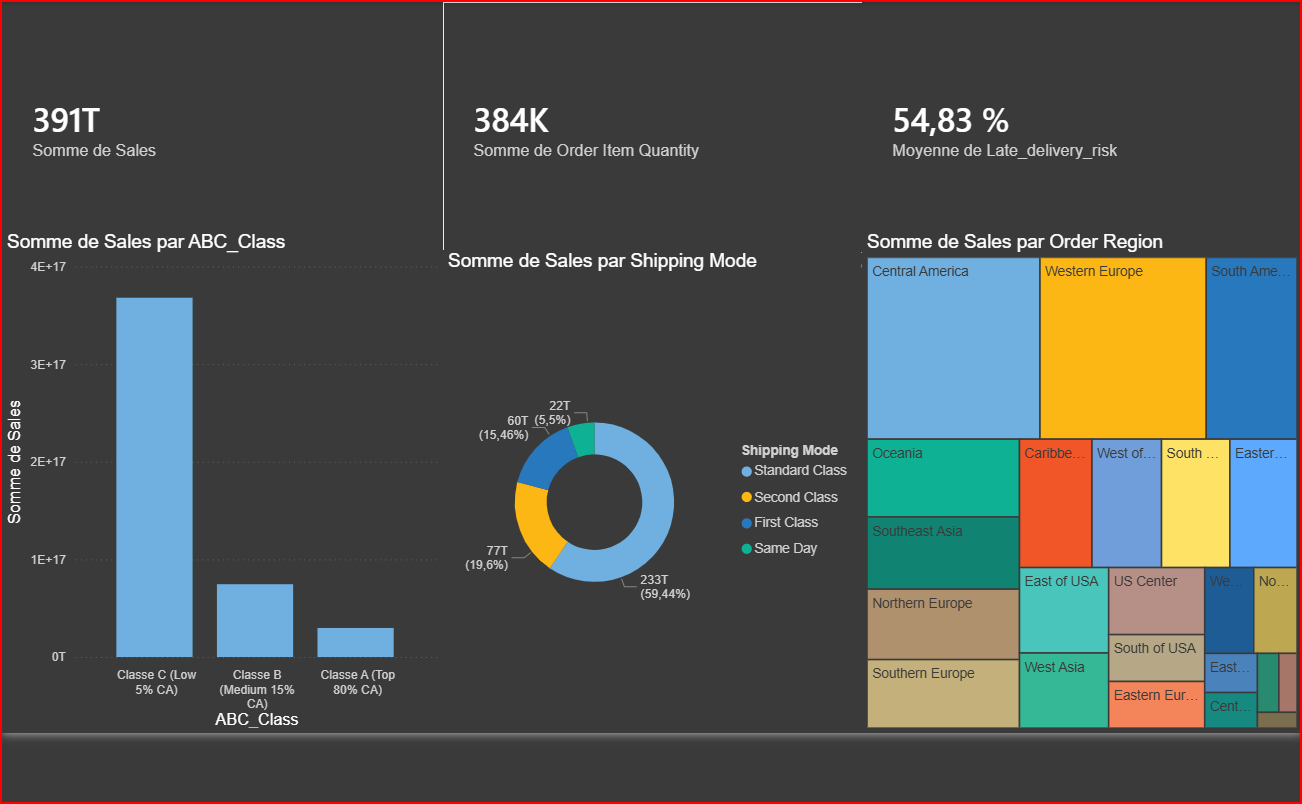

This screenshot's page, from the dashboard's own definition file:
{"tool":"powerbi","page":{"name":"Performance Commerciale & Logistique","canvas":[1280,720],"ordinal":0},"visuals":[{"type":"cardVisual","fields":{"Data":["Sum(DataCoSupplyChainDataset.Sales)"]},"box":[0,0,434.4,246.7],"z":0},{"type":"cardVisual","fields":{"Data":["Sum(DataCoSupplyChainDataset.Order Item Quantity)"]},"box":[434.4,0,427.8,246.7],"z":1000},{"type":"cardVisual","fields":{"Data":["Avg(DataCoSupplyChainDataset.Late_delivery_risk)"]},"box":[846.7,0,433.3,246.7],"z":2000},{"type":"donutChart","fields":{"Category":["DataCoSupplyChainDataset.Shipping Mode"],"Y":["Sum(DataCoSupplyChainDataset.Sales)"]},"box":[434.4,244.4,412.2,475.6],"z":3000},{"type":"treemap","fields":{"Group":["DataCoSupplyChainDataset.Order Region"],"Values":["Sum(DataCoSupplyChainDataset.Sales)"]},"box":[846.7,225.6,433.3,494.4],"z":4000},{"type":"columnChart","fields":{"Category":["product_abc_segmentation.ABC_Class"],"Y":["Sum(product_abc_segmentation.Sales)"]},"box":[0,225.6,434.4,494.4],"z":5000}]}

Visuals, with their boxes on the page's 1280x720 design canvas (x1, y1, x2, y2). These are canvas units, not pixel positions in the 1302x804 screenshot, which may show the page scaled, cropped or inside an application window:
cardVisual - Sum(DataCoSupplyChainDataset.Sales): locate(0, 0, 434, 247)
cardVisual - Sum(DataCoSupplyChainDataset.Order Item Quantity): locate(434, 0, 862, 247)
cardVisual - Avg(DataCoSupplyChainDataset.Late_delivery_risk): locate(847, 0, 1280, 247)
donutChart - DataCoSupplyChainDataset.Shipping Mode x Sum(DataCoSupplyChainDataset.Sales): locate(434, 244, 847, 720)
treemap - DataCoSupplyChainDataset.Order Region x Sum(DataCoSupplyChainDataset.Sales): locate(847, 226, 1280, 720)
columnChart - product_abc_segmentation.ABC_Class x Sum(product_abc_segmentation.Sales): locate(0, 226, 434, 720)
